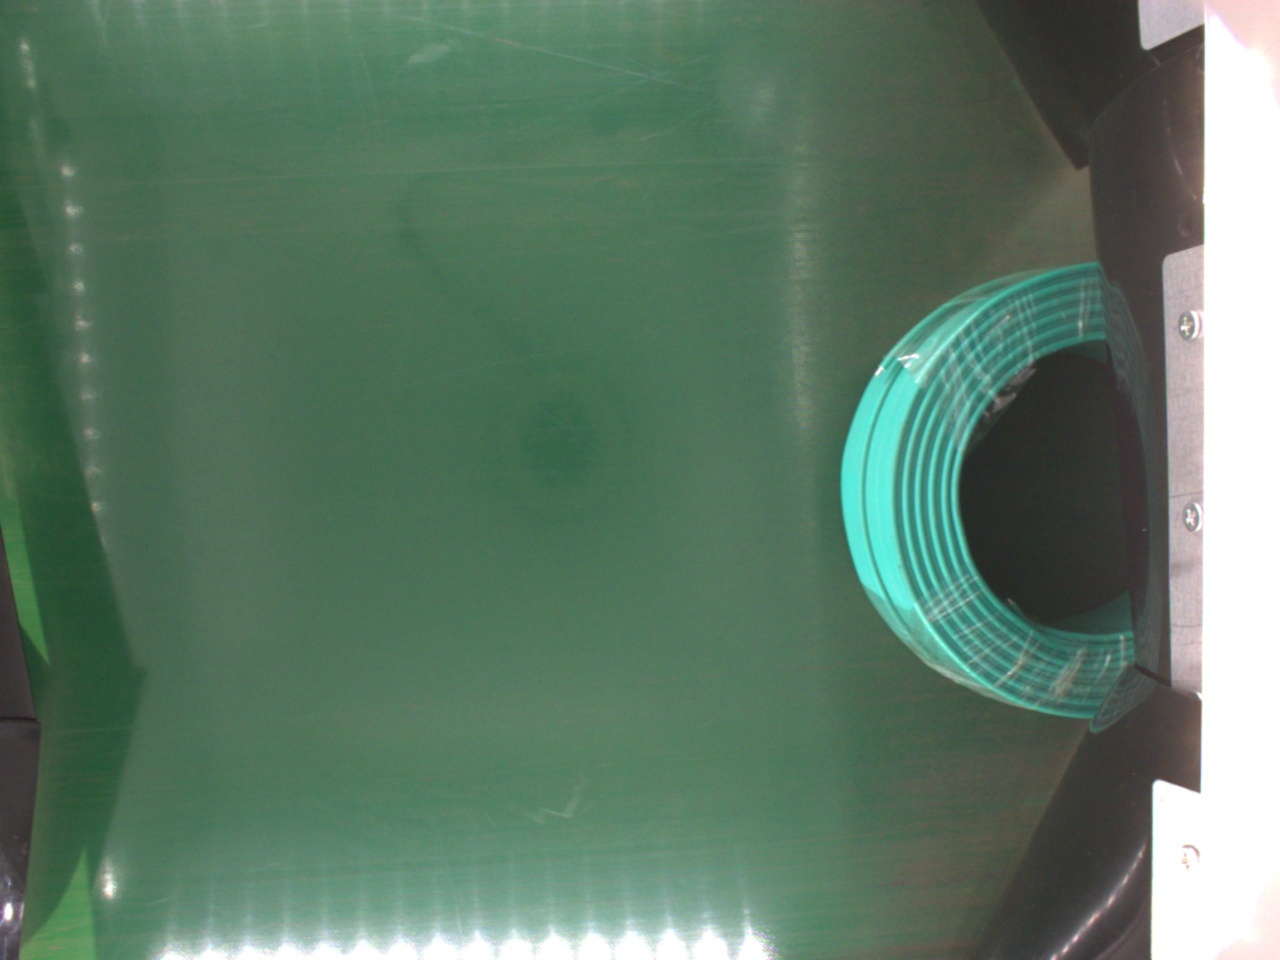green: (842, 266, 1135, 726)
